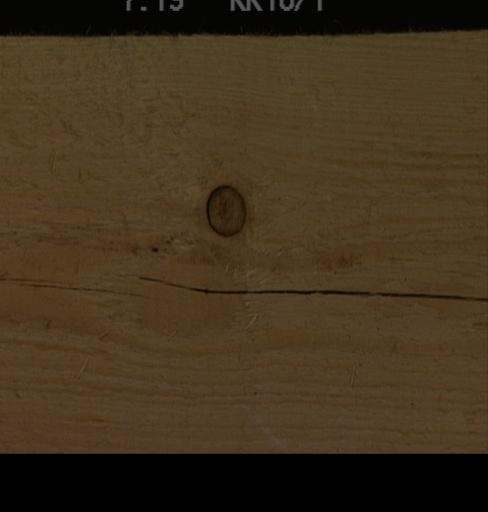dry_knot: (204, 182, 247, 236)
split: (138, 275, 486, 301), (0, 272, 160, 297)
